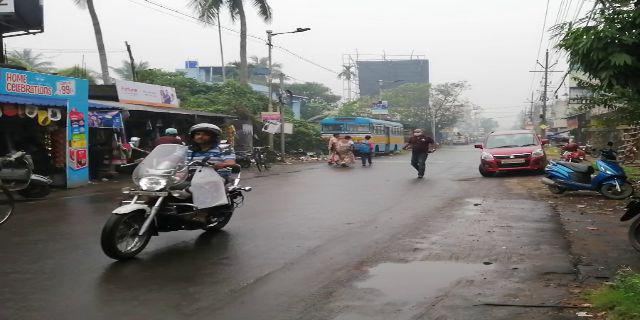Bus: (320, 115, 404, 148)
Car: (478, 132, 545, 178)
Motorbike: (101, 121, 247, 260), (551, 155, 628, 205)
